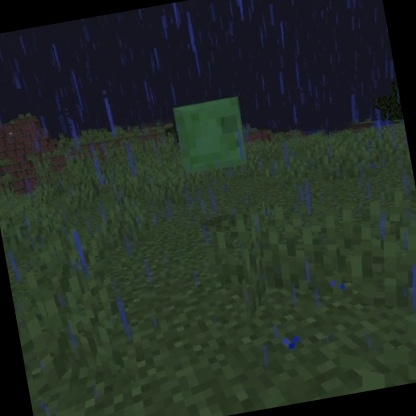slime: (168, 92, 254, 183)
